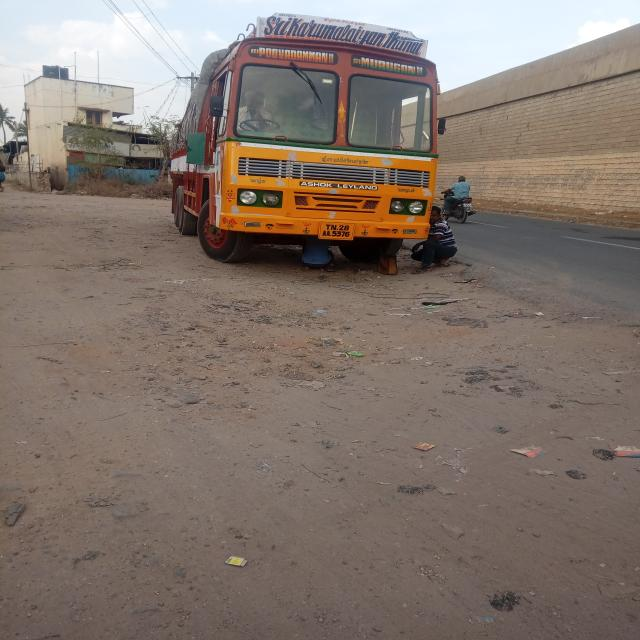Bike: (414, 204, 470, 294), (447, 156, 488, 223)
Truck: (182, 26, 430, 266)
